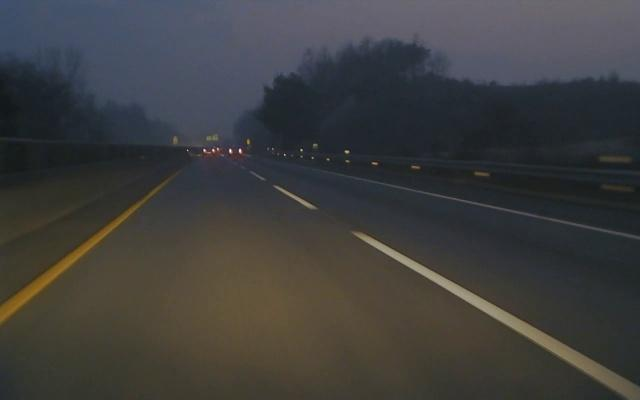lane: (265, 180, 637, 397), (2, 180, 167, 323), (364, 179, 640, 241)
